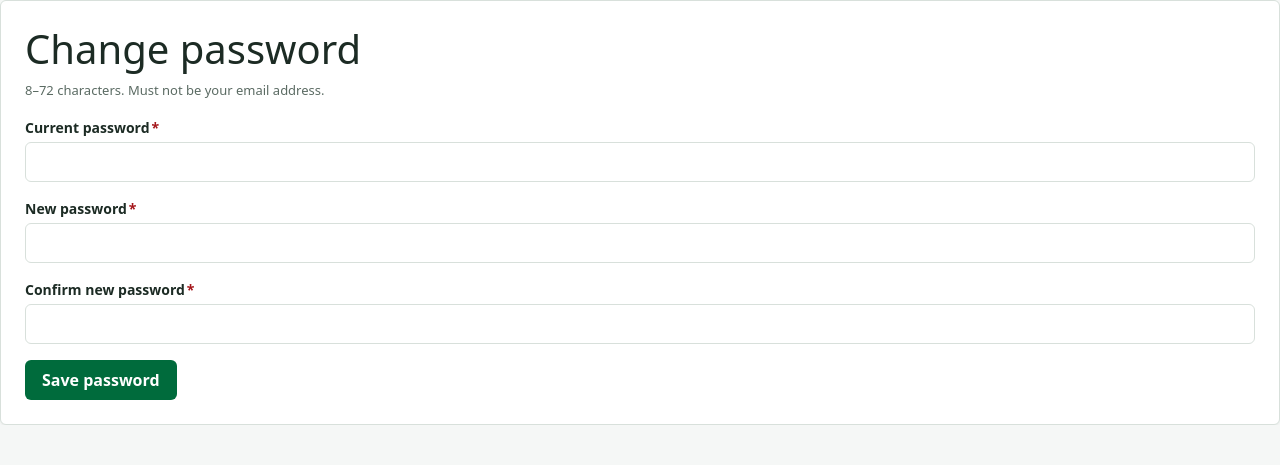
Scenario: UI-05 the rules, field by field › rejects equal to the current one beneath its field and sends nothing
Type "Toktickit#2026" into the password field labelled "Current password*" at x=640, y=162, box left=25, top=142, right=1255, bottom=182
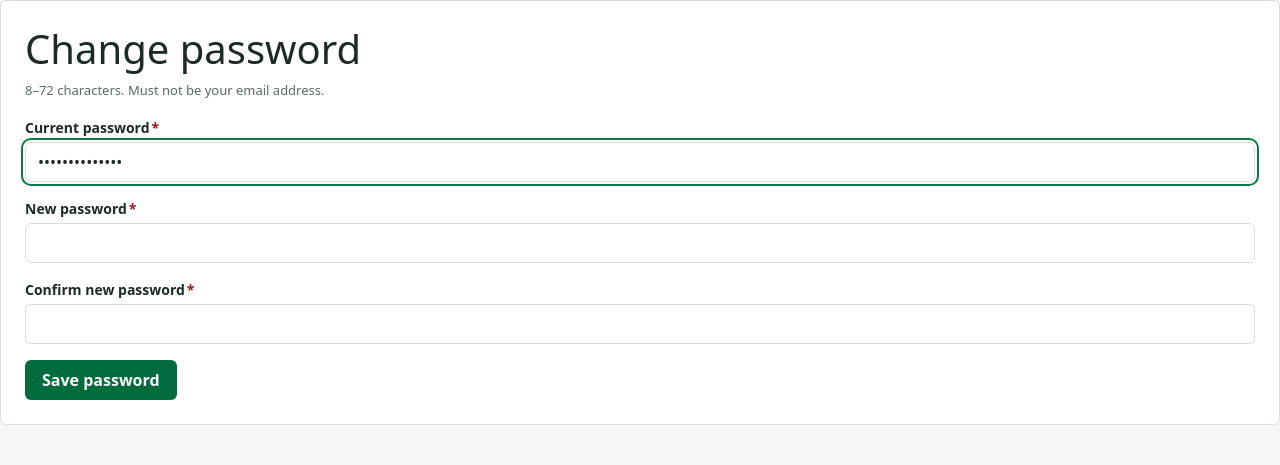
Type "Toktickit#2026" into the password field labelled "New password*" at x=640, y=242, box left=25, top=222, right=1255, bottom=262
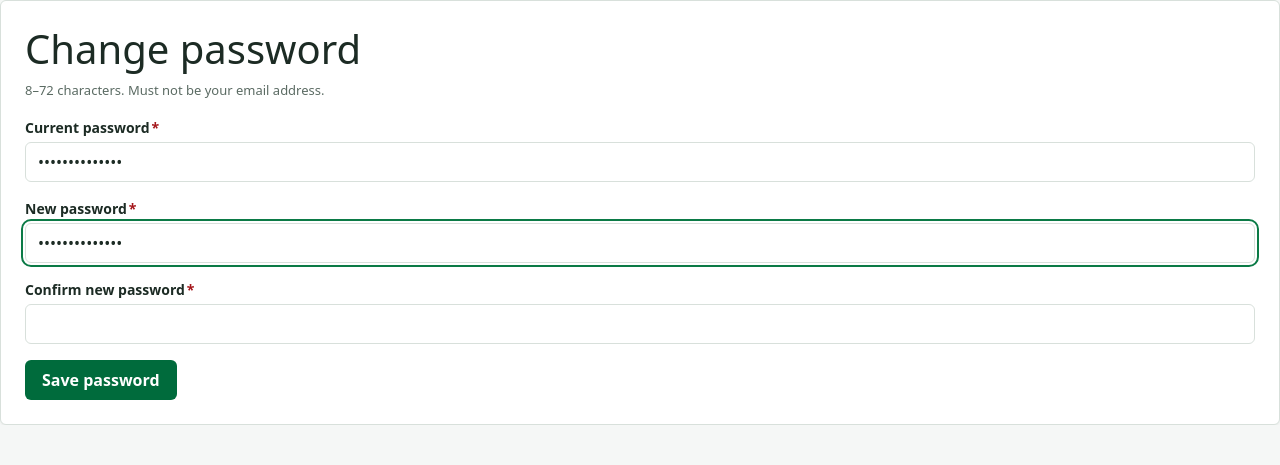
Type "Toktickit#2026" into the password field labelled "Confirm new password*" at x=640, y=324, box left=25, top=304, right=1255, bottom=344
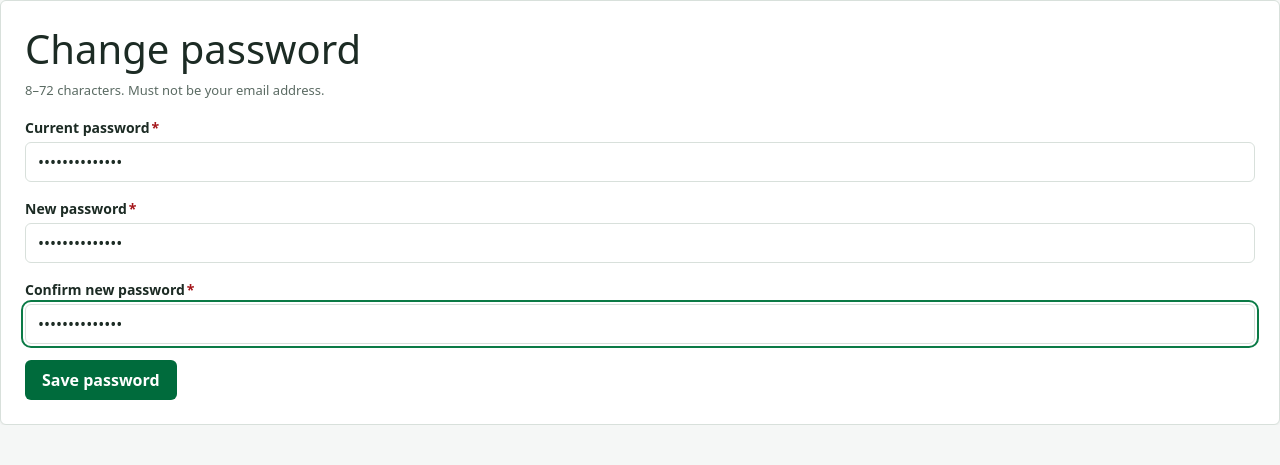
Click the button "Save password" at x=101, y=380, box left=25, top=360, right=177, bottom=400
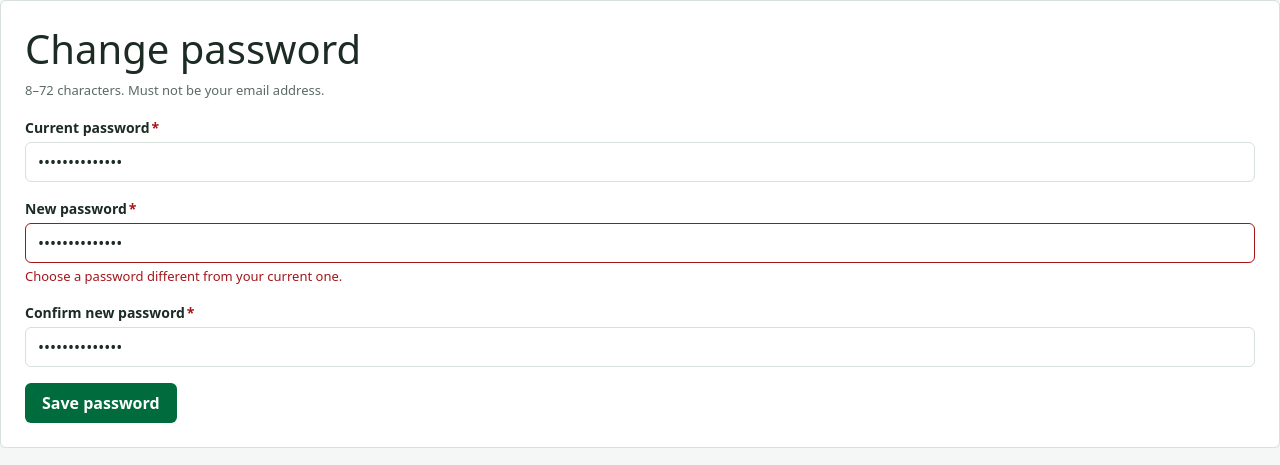
Check: the text "Choose a password different from your current one." is shown, box left=25, top=266, right=342, bottom=284
